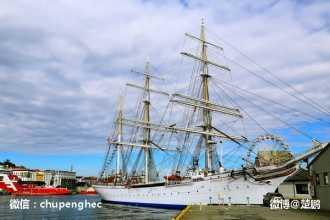fanchuan: (95, 20, 325, 201)
